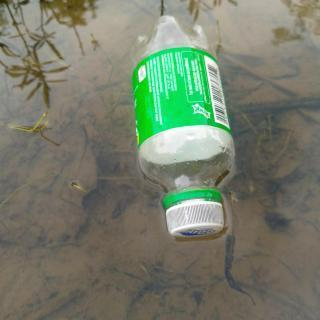bottle: (130, 13, 238, 240)
